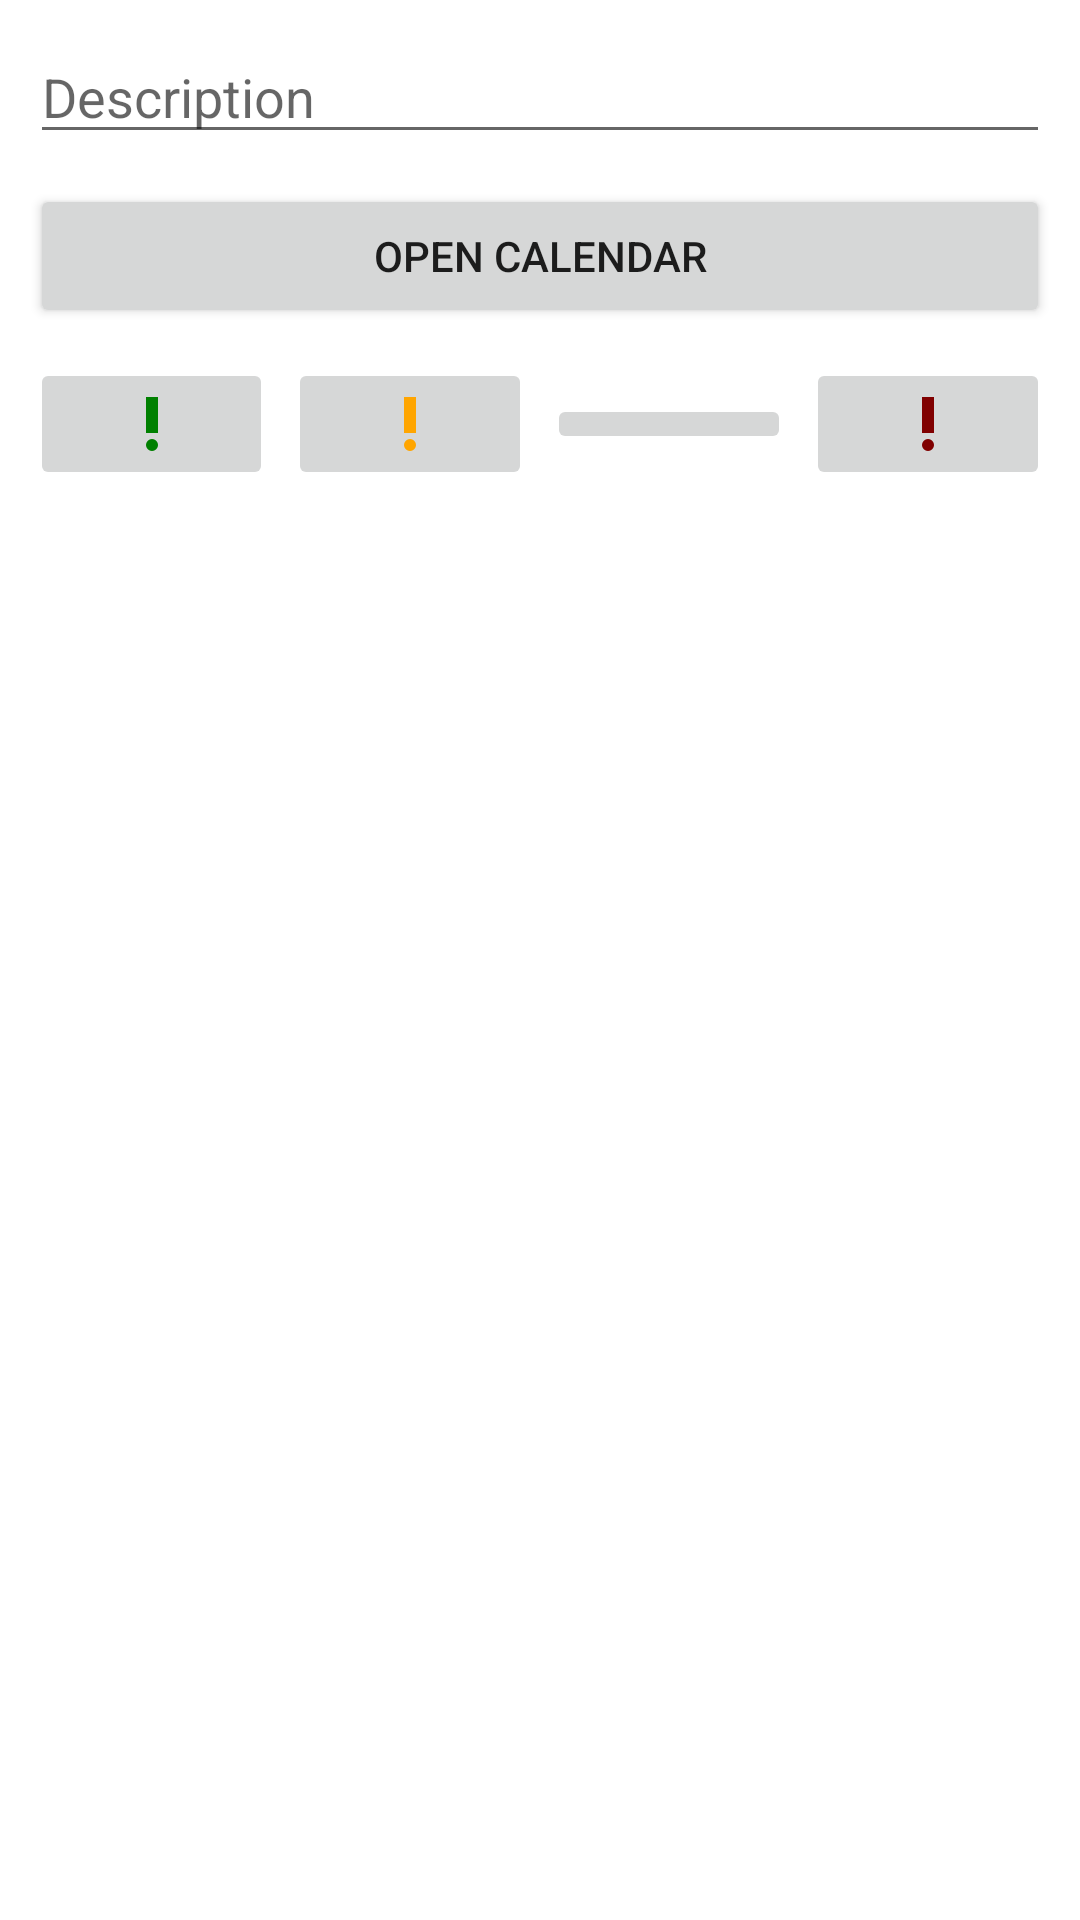

Icons on this 1080px×1920px Android screen, each with its box as (x1, y1, x2, y2):
priority critical: (818, 376, 1038, 472)
priority low: (42, 376, 261, 472)
priority medium: (300, 376, 520, 472)
